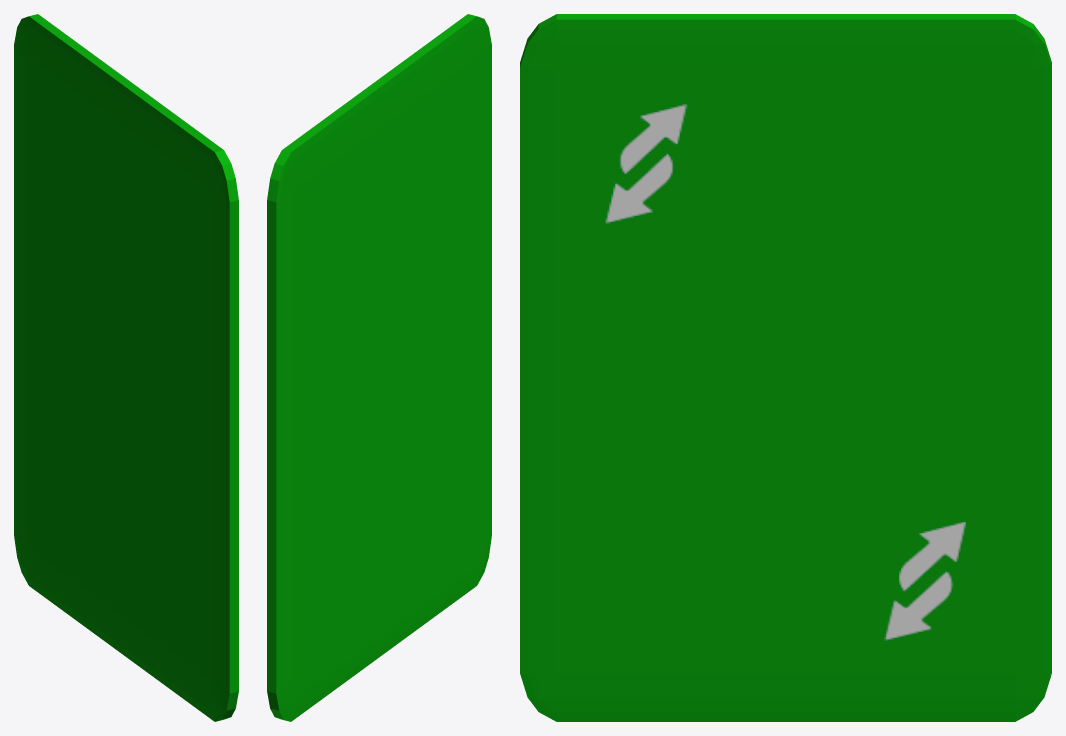
The model's file is reversaverde.glb.
The picture shows the model from 3 angles, left to right: view 1: azimuth 30°, elevation 25°; view 2: azimuth 150°, elevation 25°; view 3: azimuth 270°, elevation 25°; orthographic projection. The views are drawn at different scales.
Visible parts, largest first — view 1: Cube; view 2: Cube; view 3: Cube.
Part boxes in pixels (x1,y1,x2,y2): Cube: (14, 14, 238, 721); Cube: (267, 14, 491, 721); Cube: (520, 14, 1051, 721).
Size of the model in its own units: 0.04 by 2.04 by 1.4.
1 material, 1 textured.
